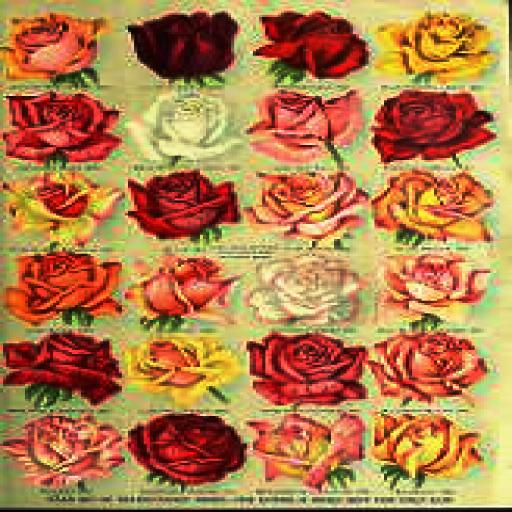rose: (244, 326, 366, 410), (374, 166, 500, 246), (247, 164, 365, 243), (375, 330, 493, 408), (244, 85, 366, 160), (374, 252, 496, 326), (253, 410, 368, 488), (118, 333, 240, 405), (134, 92, 247, 166), (134, 408, 244, 484), (9, 252, 125, 324), (128, 6, 237, 81), (375, 92, 493, 160), (384, 9, 493, 81), (128, 169, 237, 241), (372, 414, 487, 482), (256, 256, 365, 326), (259, 11, 369, 79), (131, 250, 237, 320)
